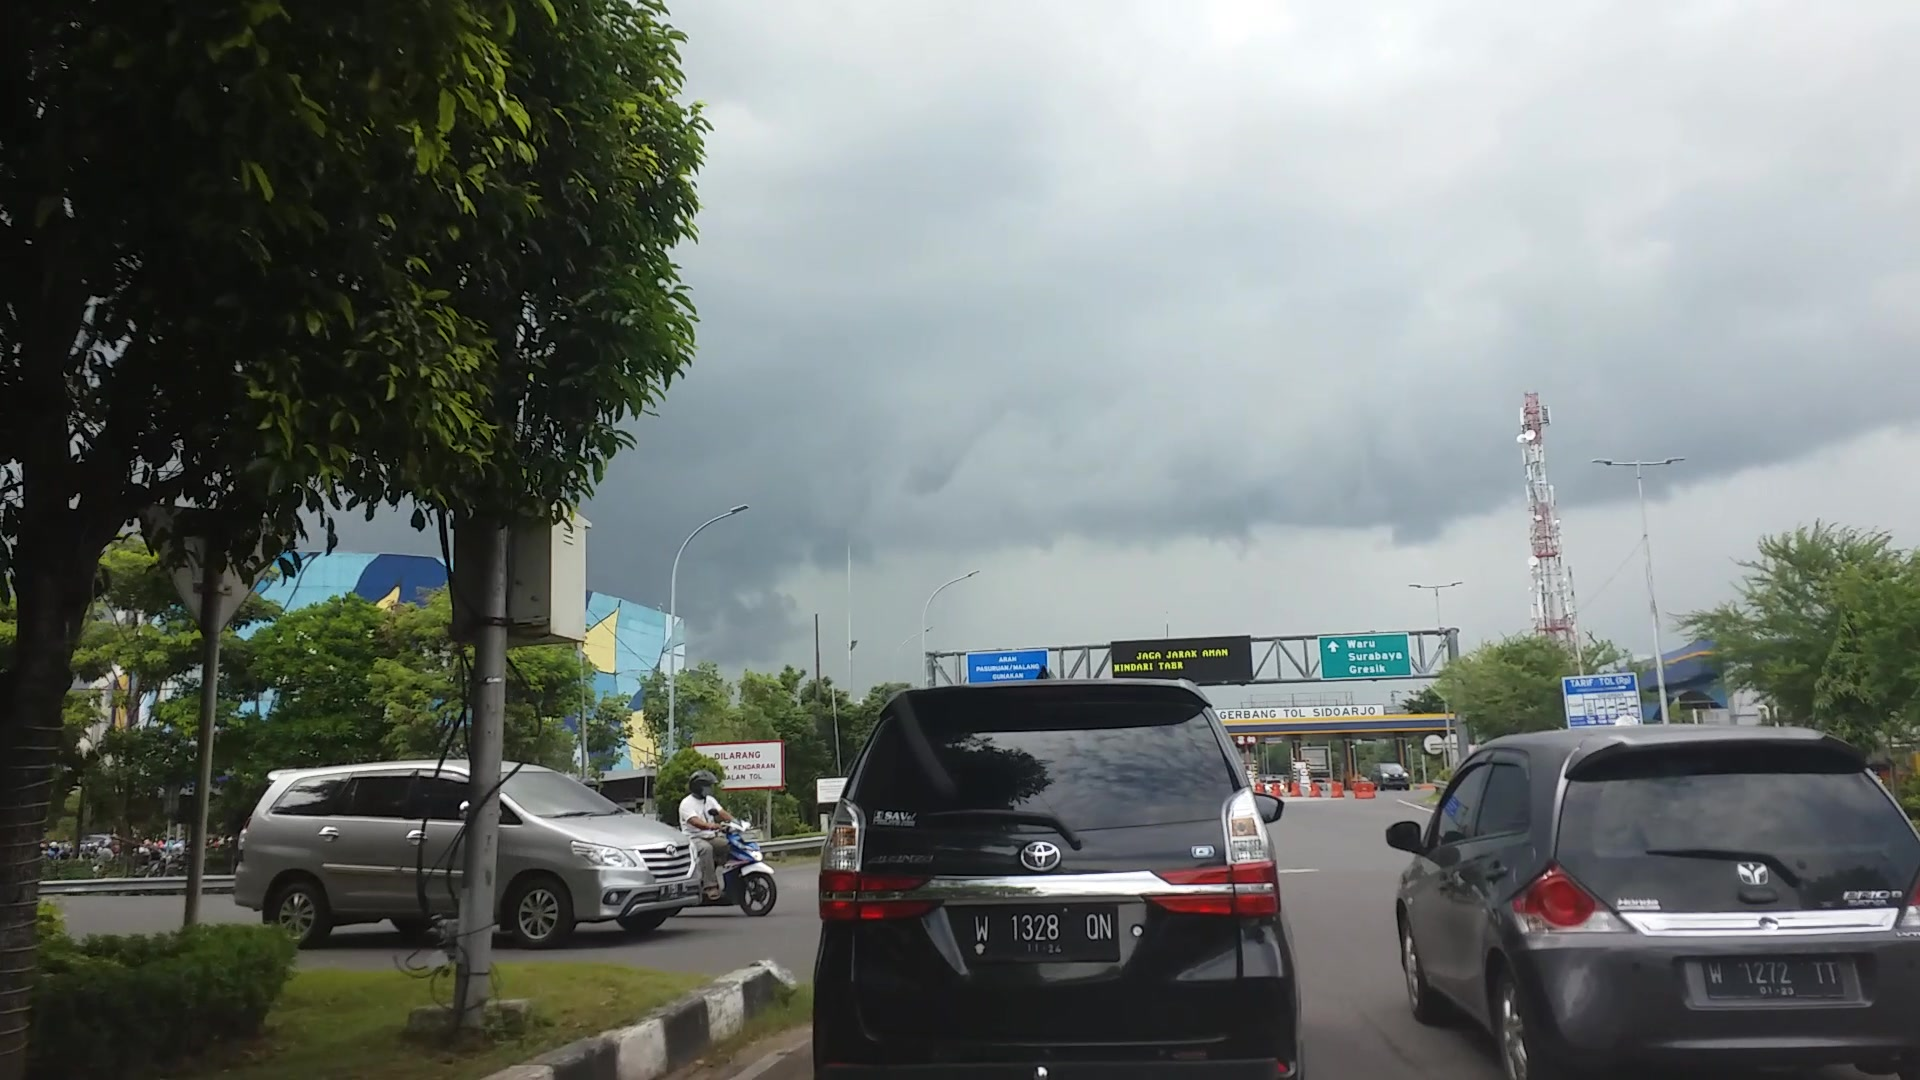plate_positive: (969, 905, 1120, 963), (1702, 957, 1841, 998)
